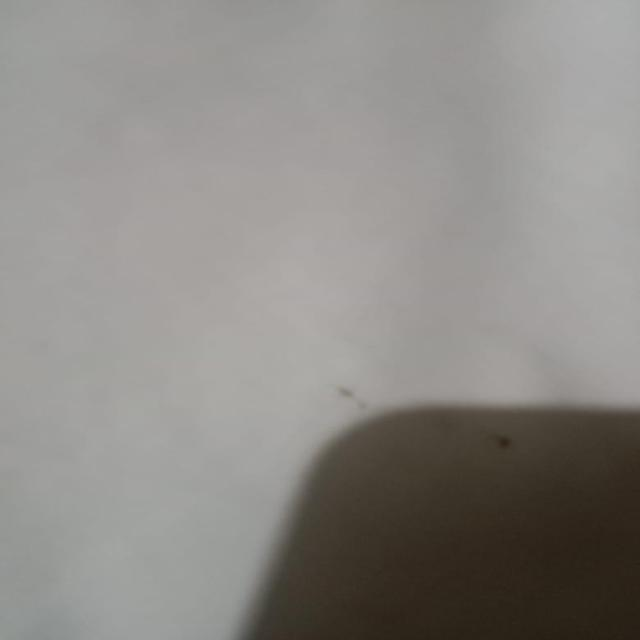stain: (430, 407, 534, 468), (321, 374, 397, 429)
